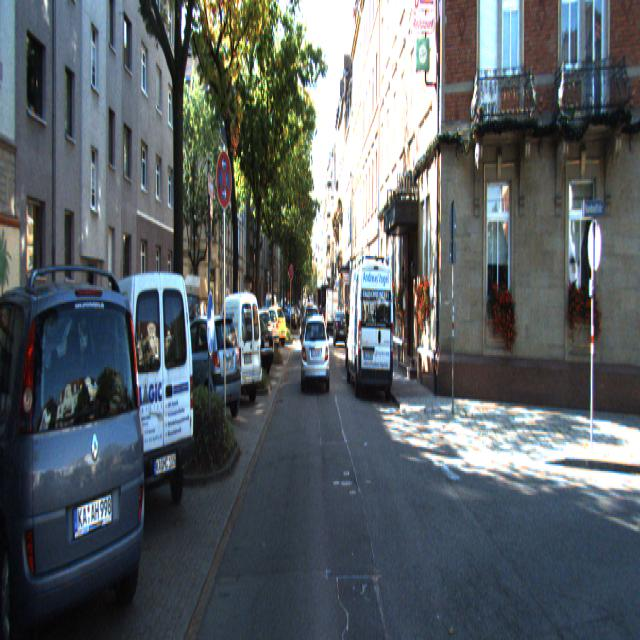Car: (0, 260, 155, 638), (86, 270, 200, 546), (171, 313, 244, 429), (198, 290, 264, 408), (347, 260, 395, 400), (0, 193, 27, 425), (172, 272, 213, 375), (223, 313, 277, 382), (302, 311, 330, 390), (303, 306, 321, 358)
